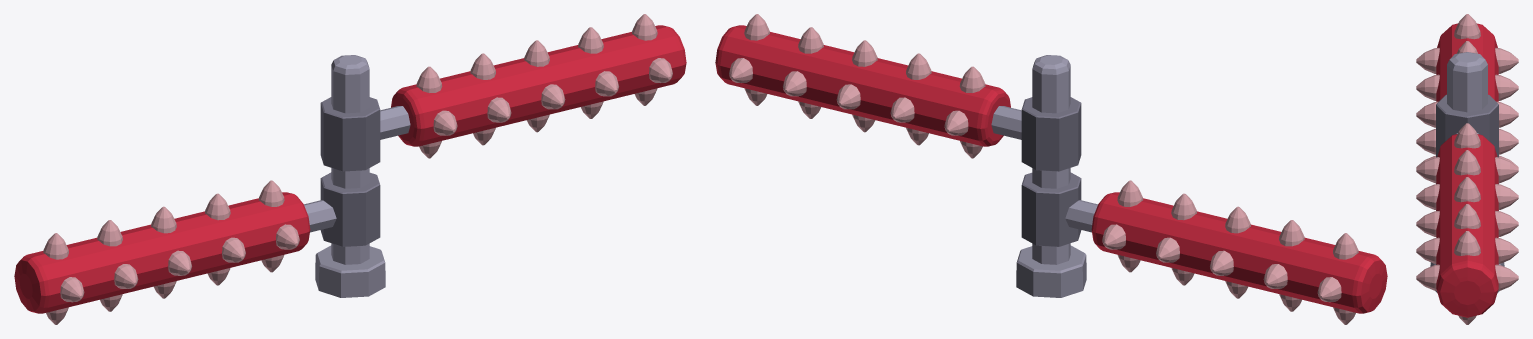
Rendered from Hurdle3.fbx.
3 renders of one model, left to right at view 1: azimuth 30°, elevation 25°; view 2: azimuth 150°, elevation 25°; view 3: azimuth 270°, elevation 25°, orthographic. The views are drawn at different scales.
Visible parts, largest first — view 1: Hurdle3; view 2: Hurdle3; view 3: Hurdle3.
Boxes of the visible parts, x1,y1,x2,y2 form: Hurdle3: (14,14,686,324); Hurdle3: (715,14,1387,324); Hurdle3: (1416,14,1518,324).
Size of the model in its own units: 5.45 by 1.79 by 0.7274.
1 material, 1 textured.
